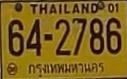2: (54, 19, 70, 54)
4: (25, 18, 40, 55)
6: (7, 19, 23, 55), (106, 18, 120, 54)
7: (72, 18, 86, 54)
8: (89, 18, 103, 54)
BKK: (24, 60, 106, 78)
